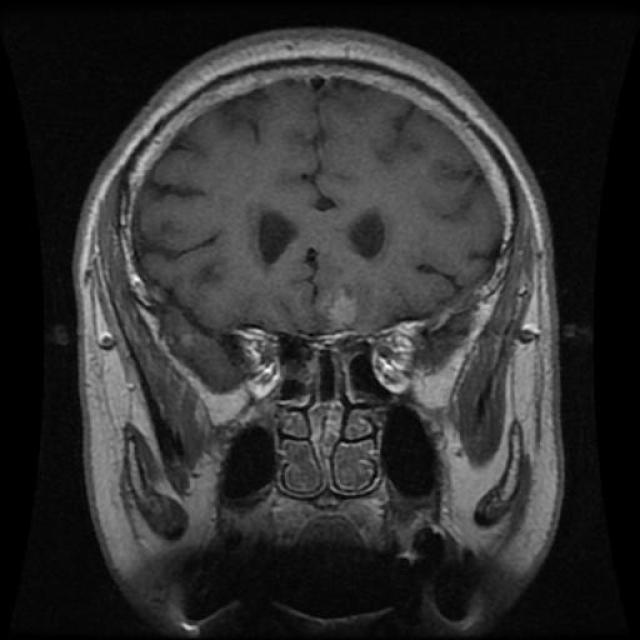pituitary: (259, 319, 425, 473)
